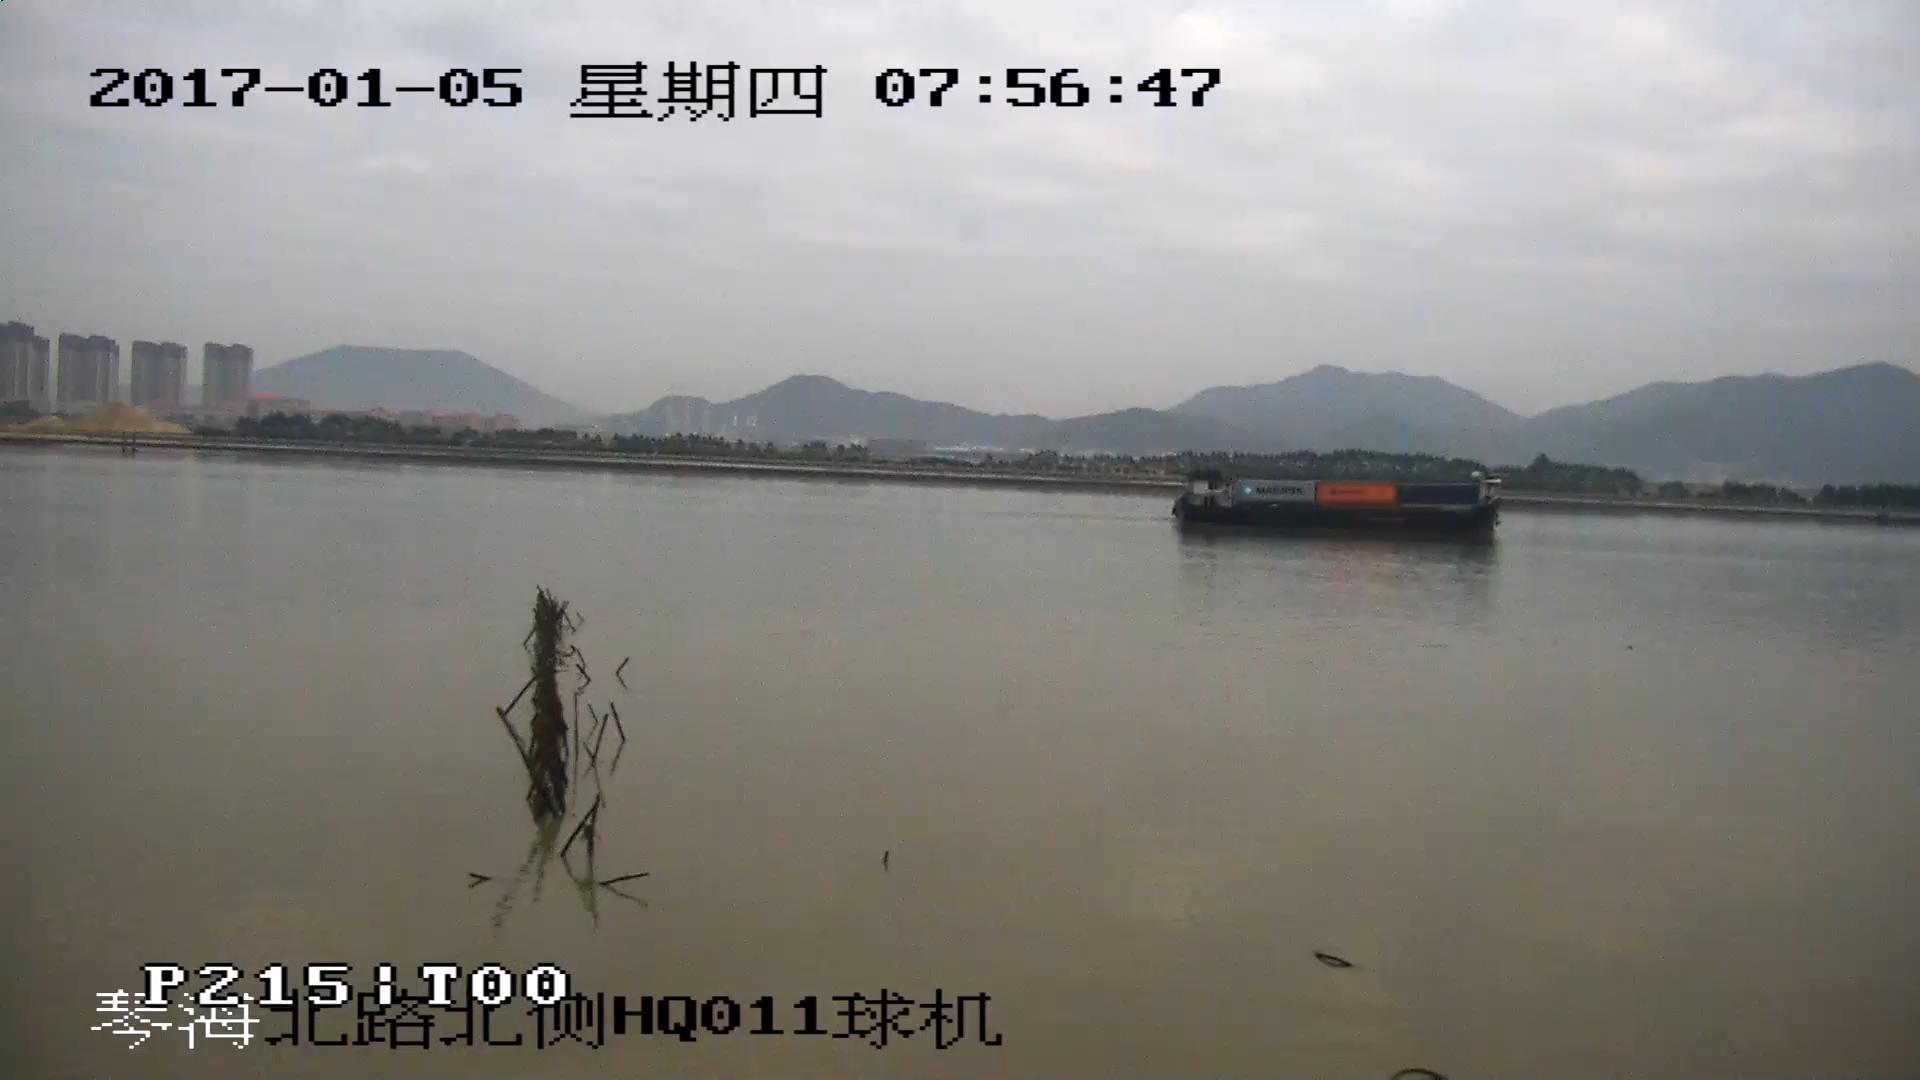container ship: (1172, 473, 1499, 536)
